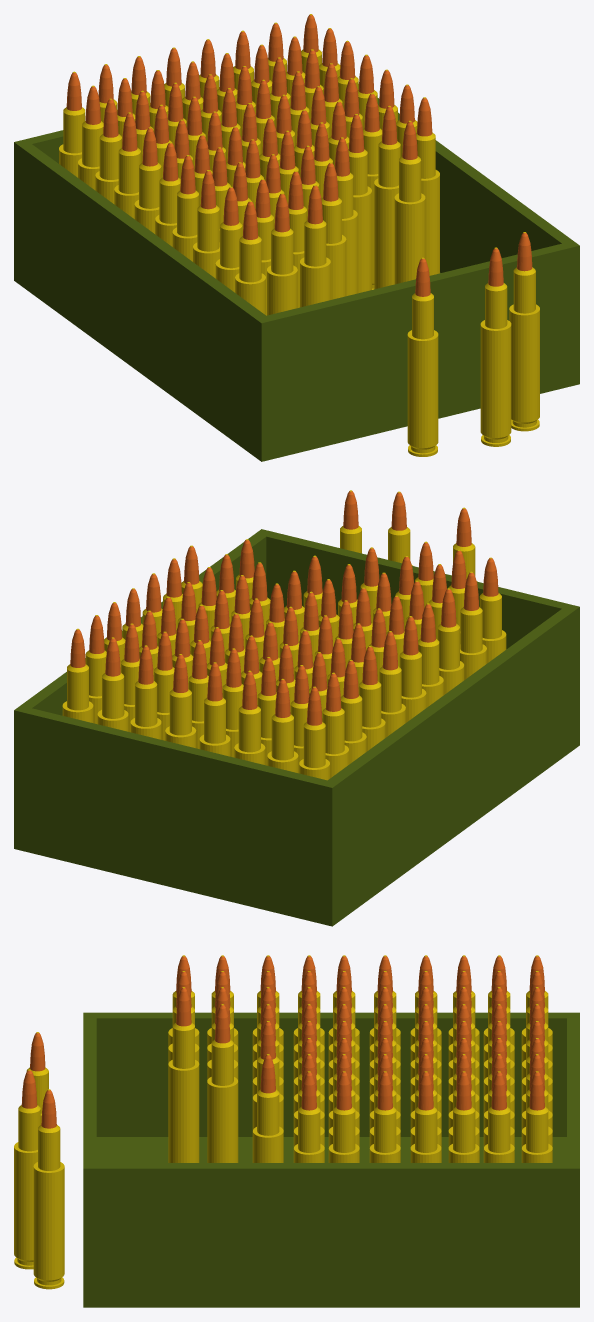
The model's file is Bullet.fbx.
3 views of the same model, one above another, from view 1: azimuth 30°, elevation 25°; view 2: azimuth 150°, elevation 25°; view 3: azimuth 270°, elevation 25° (orthographic).
Parts seen in each view (by area): view 1: Cube, Cylinder.061, Cylinder.071, Cylinder.063, Cylinder.062, Cylinder.054, Cylinder.053, Cylinder.055, Cylinder.069, Cylinder.070, Cylinder.067, Cylinder.068 (+61 smaller); view 2: Cube, Cylinder.064, Cylinder.056, Cylinder.040, Cylinder.032, Cylinder.001, Cylinder.002, Cylinder.004, Cylinder.005, Cylinder.006, Cylinder, Cylinder.003 (+61 smaller); view 3: Cube, Cylinder.063, Cylinder.070, Cylinder.067, Cylinder.061, Cylinder.062, Cylinder.031, Cylinder.023, Cylinder.007, Cylinder.015, Cylinder.039, Cylinder.047 (+61 smaller).
Part boxes in pixels (left/top/right/bottom): Cube: left=14, top=84, right=579, bottom=461; Cylinder.061: left=480, top=247, right=511, bottom=446; Cylinder.071: left=407, top=257, right=438, bottom=456; Cylinder.063: left=509, top=232, right=539, bottom=431; Cylinder.062: left=394, top=120, right=425, bottom=284; Cylinder.054: left=374, top=105, right=400, bottom=289; Cylinder.053: left=348, top=114, right=371, bottom=293; Cylinder.055: left=416, top=97, right=439, bottom=275; Cylinder.069: left=267, top=193, right=297, bottom=315; Cylinder.070: left=300, top=185, right=330, bottom=307; Cylinder.067: left=321, top=162, right=346, bottom=299; Cylinder.068: left=235, top=200, right=265, bottom=314; Cube: left=14, top=529, right=579, bottom=926; Cylinder.064: left=460, top=571, right=486, bottom=679; Cylinder.056: left=437, top=588, right=464, bottom=694; Cylinder.040: left=399, top=616, right=426, bottom=722; Cylinder.032: left=379, top=631, right=405, bottom=737; Cylinder.001: left=267, top=678, right=298, bottom=772; Cylinder.002: left=234, top=670, right=265, bottom=764; Cylinder.004: left=165, top=654, right=196, bottom=748; Cylinder.005: left=130, top=645, right=161, bottom=739; Cylinder.006: left=97, top=637, right=128, bottom=731; Cylinder: left=299, top=686, right=329, bottom=780; Cylinder.003: left=199, top=662, right=230, bottom=756; Cube: left=83, top=1012, right=579, bottom=1307; Cylinder.063: left=33, top=1089, right=64, bottom=1289; Cylinder.070: left=168, top=987, right=199, bottom=1162; Cylinder.067: left=207, top=1004, right=238, bottom=1162; Cylinder.061: left=14, top=1069, right=40, bottom=1269; Cylinder.062: left=252, top=1054, right=283, bottom=1162; Cylinder.031: left=410, top=1071, right=441, bottom=1162; Cylinder.023: left=448, top=1071, right=479, bottom=1162; Cylinder.007: left=521, top=1071, right=552, bottom=1162; Cylinder.015: left=483, top=1071, right=514, bottom=1162; Cylinder.039: left=369, top=1071, right=400, bottom=1162; Cylinder.047: left=328, top=1071, right=359, bottom=1162.
Size of the model in its own units: 264 by 178 by 406.
